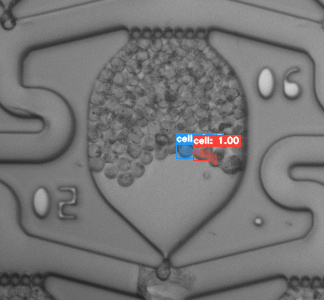AptNum: (248, 62, 310, 107)
Marker: (243, 208, 273, 235)
StNum: (24, 180, 86, 230)
Trap: (144, 256, 188, 298)
